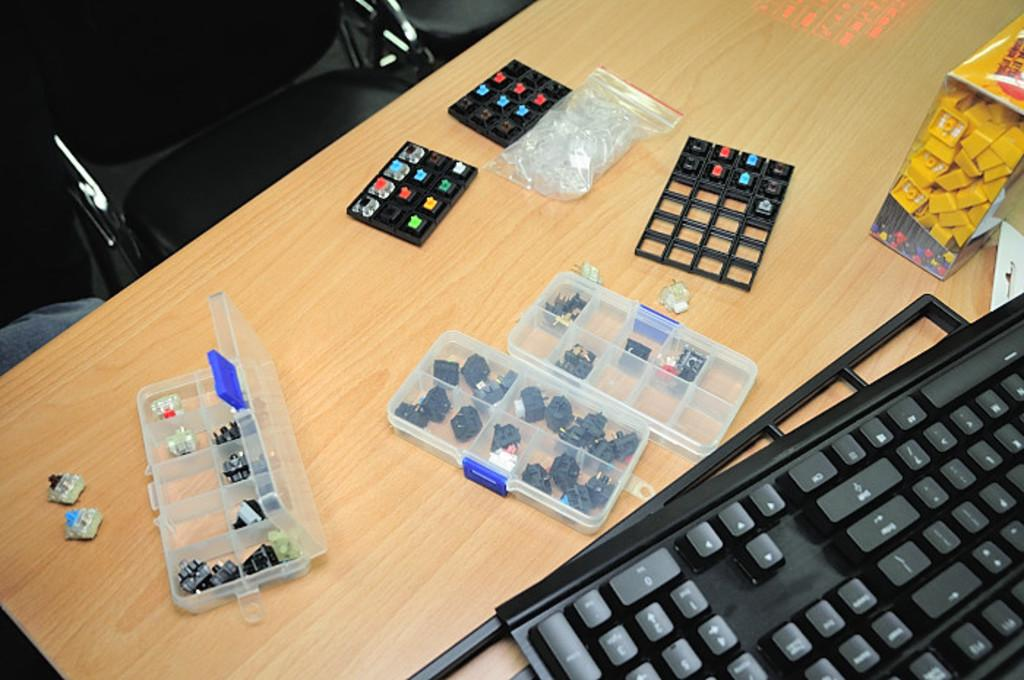Computer-keyboard: (492, 290, 1023, 679)
